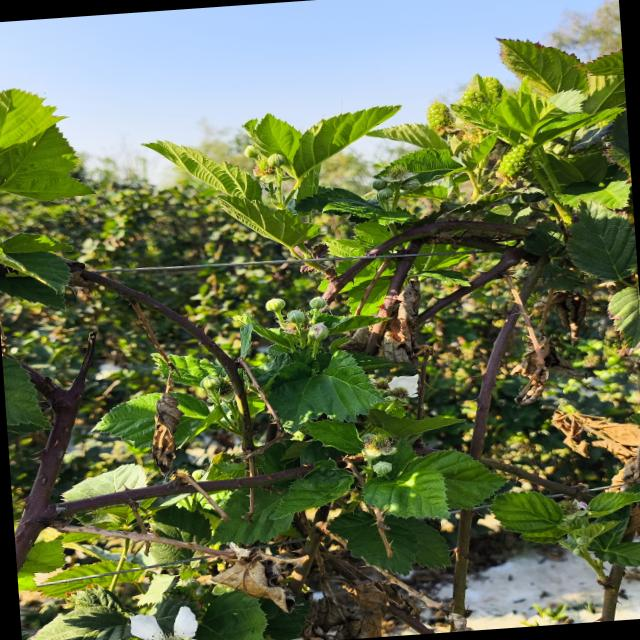boton: (308, 323, 329, 340), (372, 461, 392, 476), (267, 153, 286, 167), (265, 298, 285, 311), (287, 310, 305, 324), (243, 144, 258, 159), (309, 296, 326, 309)
